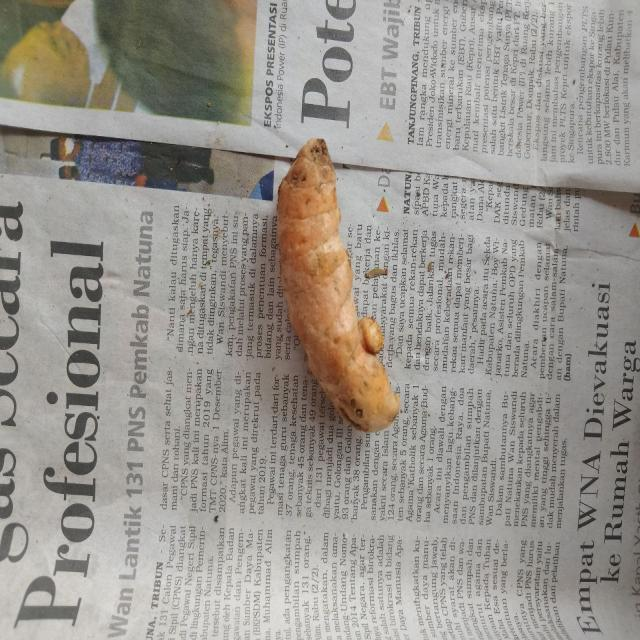ginger: (281, 140, 398, 444)
